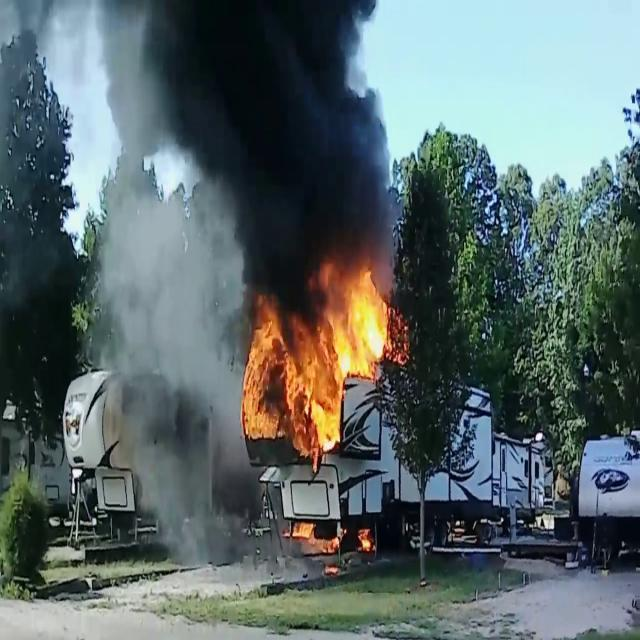Fire: (238, 261, 398, 455)
Smoke: (80, 8, 250, 550), (136, 0, 402, 293)
